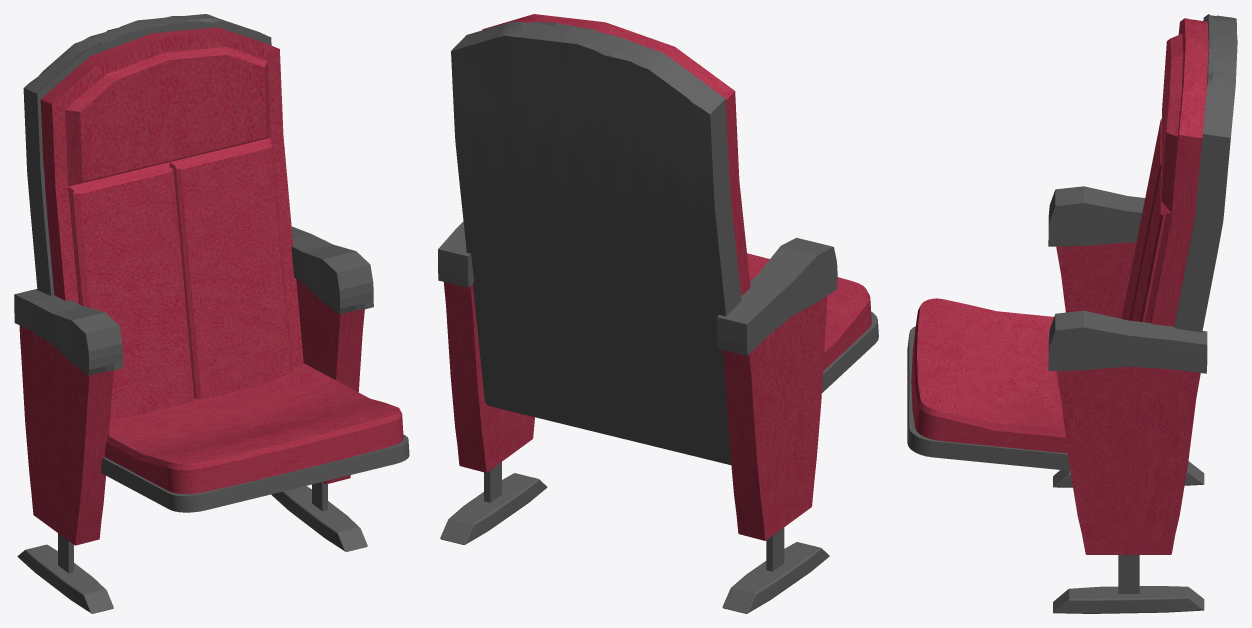
The model's file is chaise.fbx.
3 renders of one model, left to right at view 1: azimuth 30°, elevation 25°; view 2: azimuth 150°, elevation 25°; view 3: azimuth 270°, elevation 25°, orthographic. The views are drawn at different scales.
Parts seen in each view (by area): view 1: devant, dessus, pCube5, arriere, desous, pCube6, pCube7, pCube8, pCube10, pCube12; view 2: arriere, pCube5, pCube7, pCube6, devant, dessus, pCube10, pCube12, pCube8, desous, pCube9; view 3: pCube7, dessus, devant, arriere, pCube8, pCube6, pCube5, pCube12, desous, pCube11, pCube10.
Boxes of the visible parts, x1=… form: devant: x1=40, y1=27, x2=303, y2=418; dessus: x1=105, y1=363, x2=403, y2=493; pCube5: x1=19, y1=325, x2=113, y2=545; arriere: x1=23, y1=14, x2=271, y2=295; desous: x1=101, y1=434, x2=409, y2=512; pCube6: x1=14, y1=289, x2=122, y2=375; pCube7: x1=296, y1=279, x2=364, y2=484; pCube8: x1=291, y1=226, x2=373, y2=314; pCube10: x1=17, y1=544, x2=113, y2=613; pCube12: x1=271, y1=486, x2=367, y2=551; arriere: x1=451, y1=21, x2=741, y2=464; pCube5: x1=722, y1=296, x2=827, y2=540; pCube7: x1=443, y1=282, x2=534, y2=472; pCube6: x1=717, y1=237, x2=837, y2=355; devant: x1=482, y1=14, x2=750, y2=296; dessus: x1=747, y1=253, x2=871, y2=370; pCube10: x1=722, y1=542, x2=829, y2=613; pCube12: x1=440, y1=473, x2=547, y2=544; pCube8: x1=438, y1=221, x2=473, y2=287; desous: x1=822, y1=312, x2=878, y2=392; pCube9: x1=766, y1=527, x2=784, y2=571; pCube7: x1=1056, y1=366, x2=1200, y2=554; dessus: x1=911, y1=298, x2=1067, y2=453; devant: x1=1121, y1=18, x2=1208, y2=326; arriere: x1=1174, y1=14, x2=1237, y2=332; pCube8: x1=1048, y1=310, x2=1207, y2=373; pCube6: x1=1048, y1=186, x2=1145, y2=246; pCube5: x1=1056, y1=242, x2=1136, y2=318; pCube12: x1=1053, y1=586, x2=1204, y2=613; desous: x1=907, y1=326, x2=1070, y2=470; pCube11: x1=1118, y1=555, x2=1139, y2=594; pCube10: x1=1053, y1=461, x2=1204, y2=487.
Bounding box in the file's own units: 5.14 × 8.58 × 5.08.
